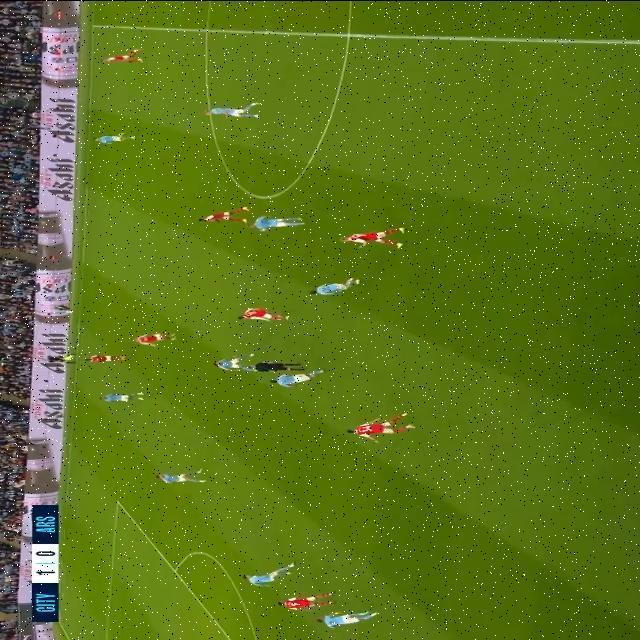ball: (241, 348, 276, 362)
player: (328, 411, 430, 445), (303, 602, 401, 634), (237, 559, 321, 589), (152, 460, 242, 488), (90, 40, 168, 71), (339, 227, 421, 253), (201, 90, 269, 120), (299, 268, 367, 297), (123, 327, 203, 351), (272, 587, 344, 612), (197, 203, 272, 227), (92, 385, 170, 406), (245, 213, 319, 235), (90, 126, 155, 148), (230, 306, 296, 326), (272, 365, 325, 387), (78, 349, 134, 362), (208, 357, 259, 371)
referee: (245, 358, 307, 377)
